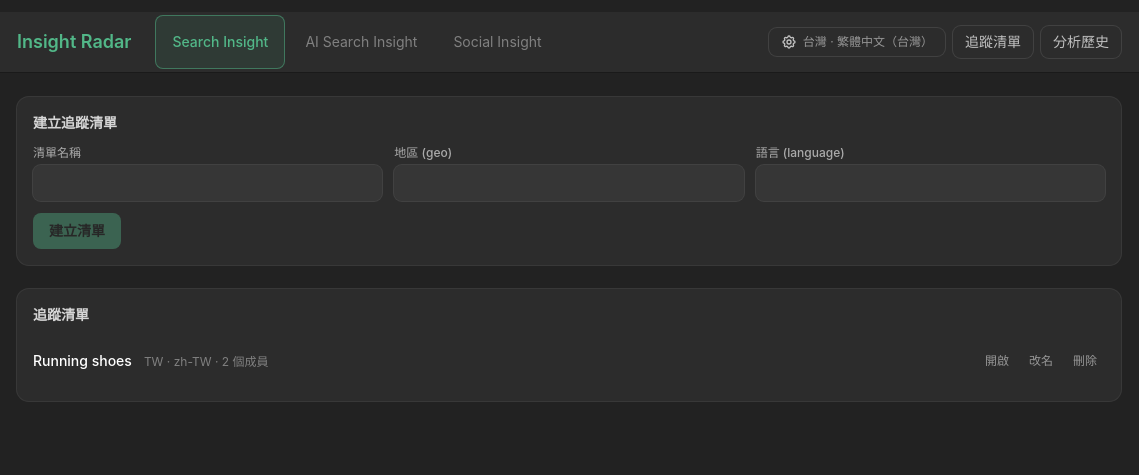
TC-47 · top-level tracking route + nav entry › opens a list detail from a row (開啟 → /tracking/$listId)
Click the button with aria-label "開啟 Running shoes": (997, 361) x1=977 y1=349 x2=1017 y2=373
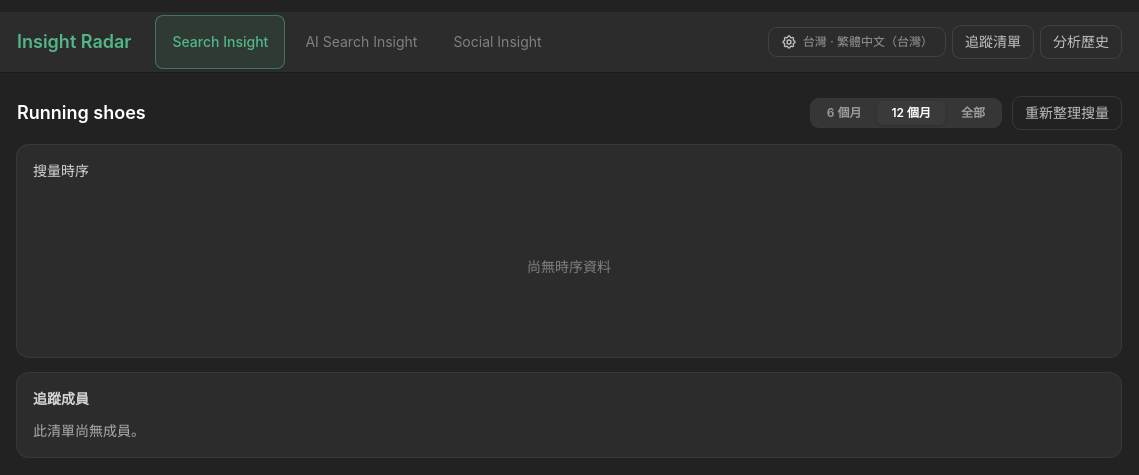
Expected: the text "尚無時序資料" is shown, x1=527 y1=258 x2=611 y2=275
